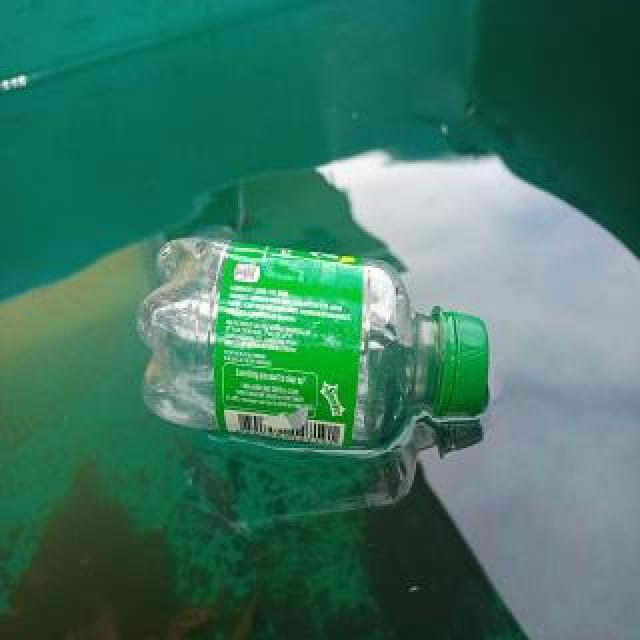Plastic Bottle: (129, 229, 495, 463)
